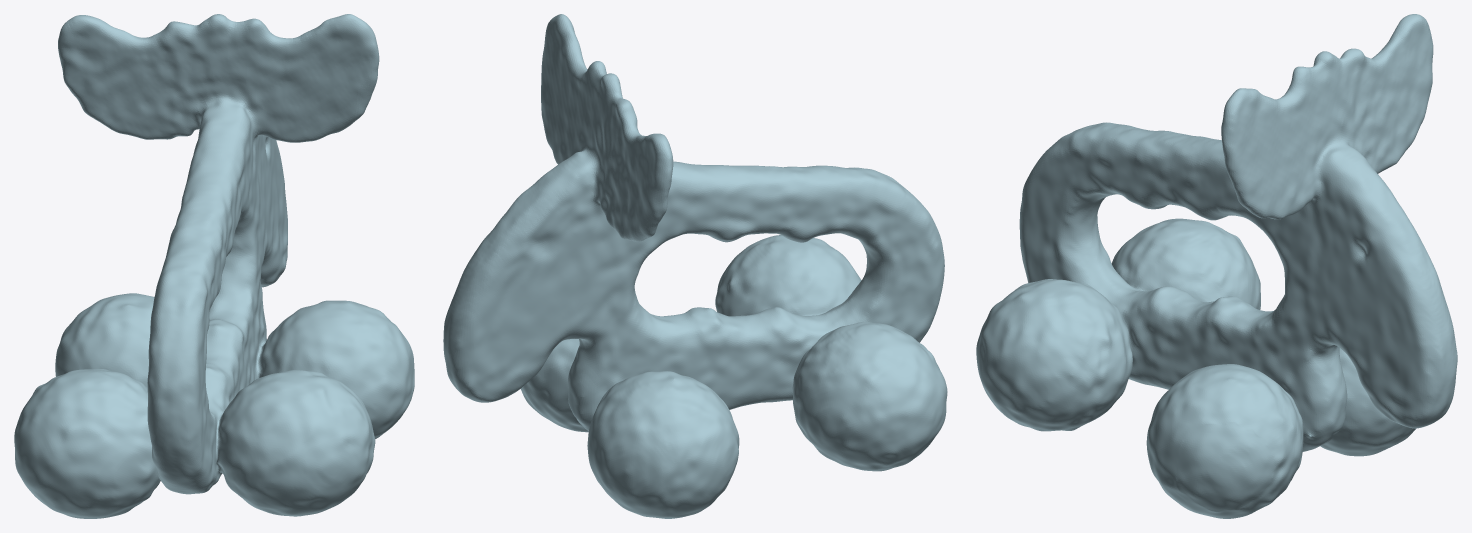
File: capudf_elk.glb
3 renders of one model, left to right at view 1: azimuth 30°, elevation 25°; view 2: azimuth 150°, elevation 25°; view 3: azimuth 270°, elevation 25°, orthographic. The views are drawn at different scales.
Parts seen in each view (by area): view 1: capudf_elk.ply; view 2: capudf_elk.ply; view 3: capudf_elk.ply.
Boxes of the visible parts, x1,y1,x2,y2 form: capudf_elk.ply: (14, 14, 414, 518); capudf_elk.ply: (443, 14, 947, 518); capudf_elk.ply: (976, 14, 1457, 518).
Bounding box in the file's own units: 0.9172 × 0.9242 × 0.9207.
